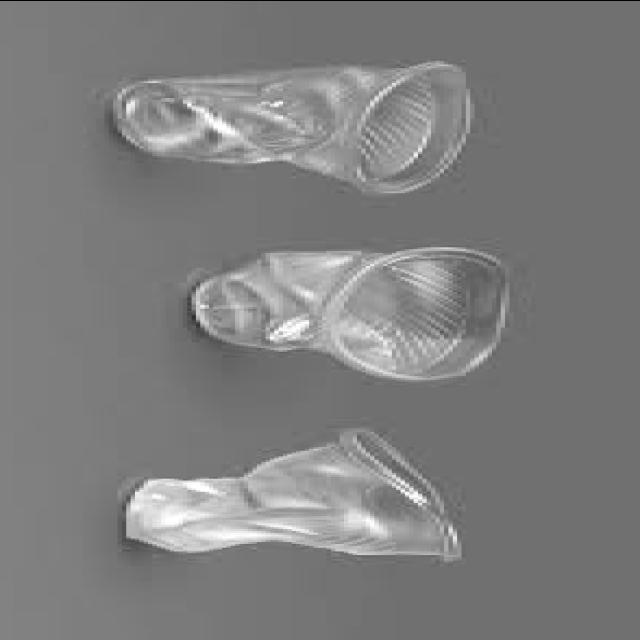plastic: (114, 61, 471, 192), (125, 429, 459, 557), (192, 246, 509, 380)
